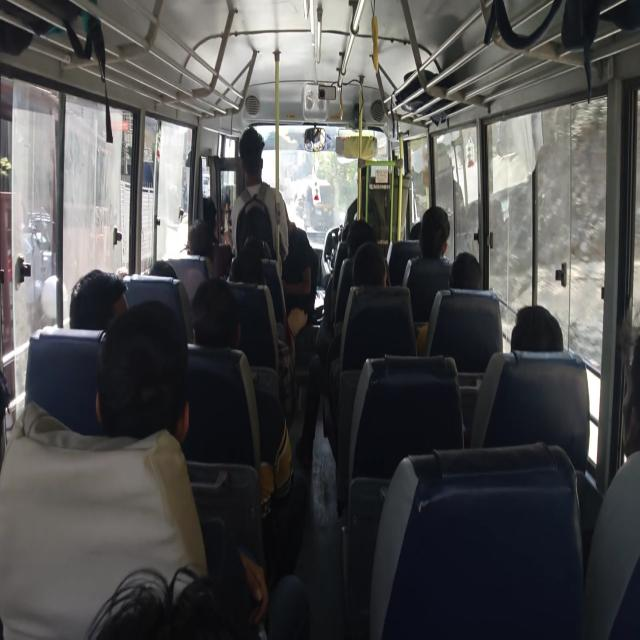person: (84, 575, 271, 640), (108, 317, 184, 443), (280, 224, 322, 328), (189, 279, 238, 362), (512, 307, 565, 373), (417, 196, 470, 260), (0, 363, 31, 469), (74, 268, 123, 335), (613, 350, 640, 457), (352, 246, 401, 304), (240, 114, 272, 194), (234, 231, 260, 291), (450, 248, 486, 289), (347, 210, 380, 252), (147, 241, 172, 292), (187, 228, 220, 261), (248, 219, 274, 257), (404, 209, 432, 243), (198, 191, 222, 227)
